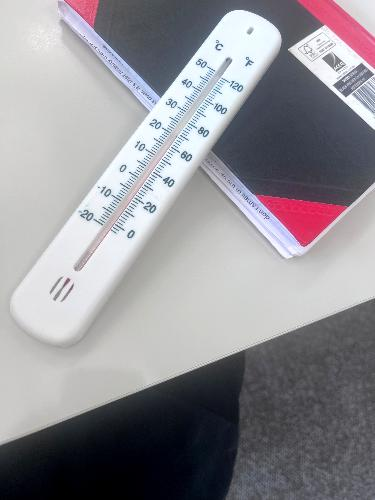thermo: (0, 0, 305, 361)
